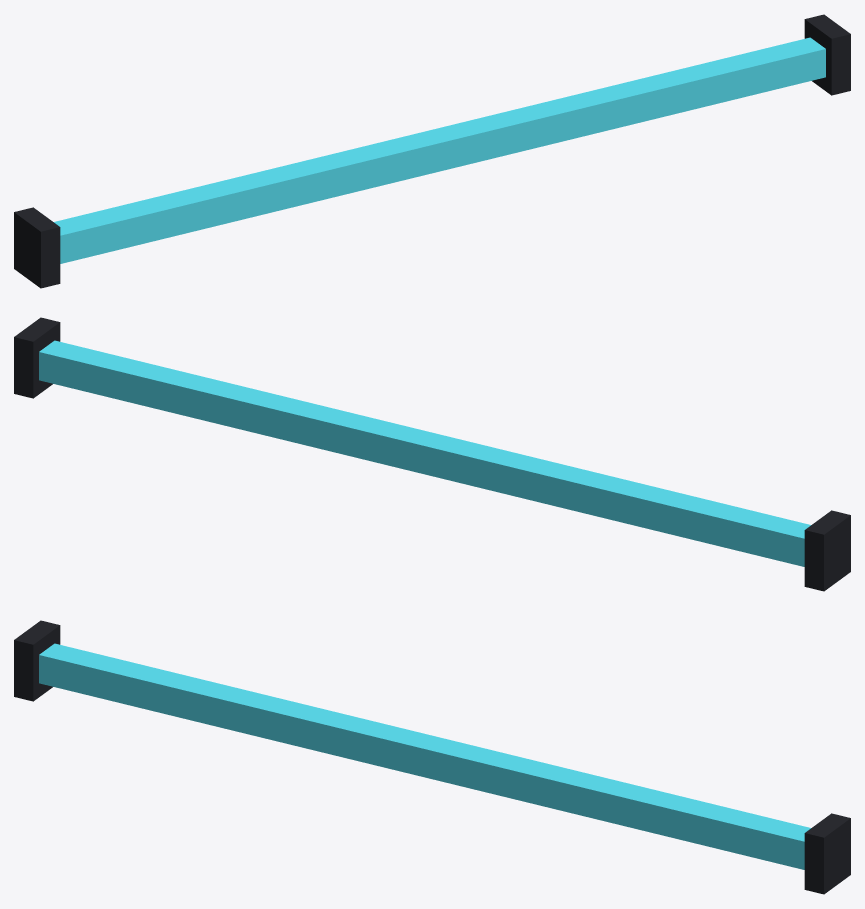
File: neon_bar_cyan.obj
3 renders of one model, top to bottom at view 1: azimuth 30°, elevation 25°; view 2: azimuth 150°, elevation 25°; view 3: azimuth 330°, elevation 25°, orthographic.
Size of the model in its own units: 2.09 by 0.14 by 0.12.
Materials: 2 (2 with a texture image).
